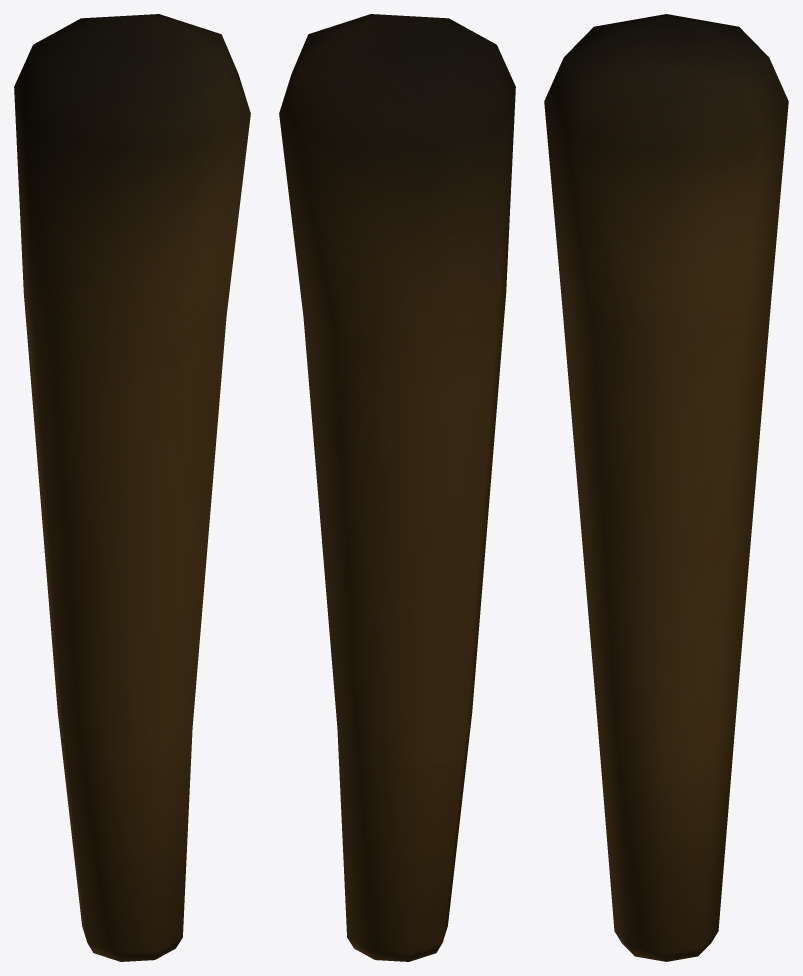
File: obor.fbx
3 views of the same model, side by side, from view 1: azimuth 30°, elevation 25°; view 2: azimuth 150°, elevation 25°; view 3: azimuth 270°, elevation 25° (orthographic).
Parts seen in each view (by area): view 1: Cylinder; view 2: Cylinder; view 3: Cylinder.
Part boxes in pixels (box(x1,y1,x2,y2)): Cylinder: box(14, 14, 250, 961); Cylinder: box(279, 14, 515, 961); Cylinder: box(544, 14, 788, 961).
Size of the model in its own units: 171 by 700 by 171.
